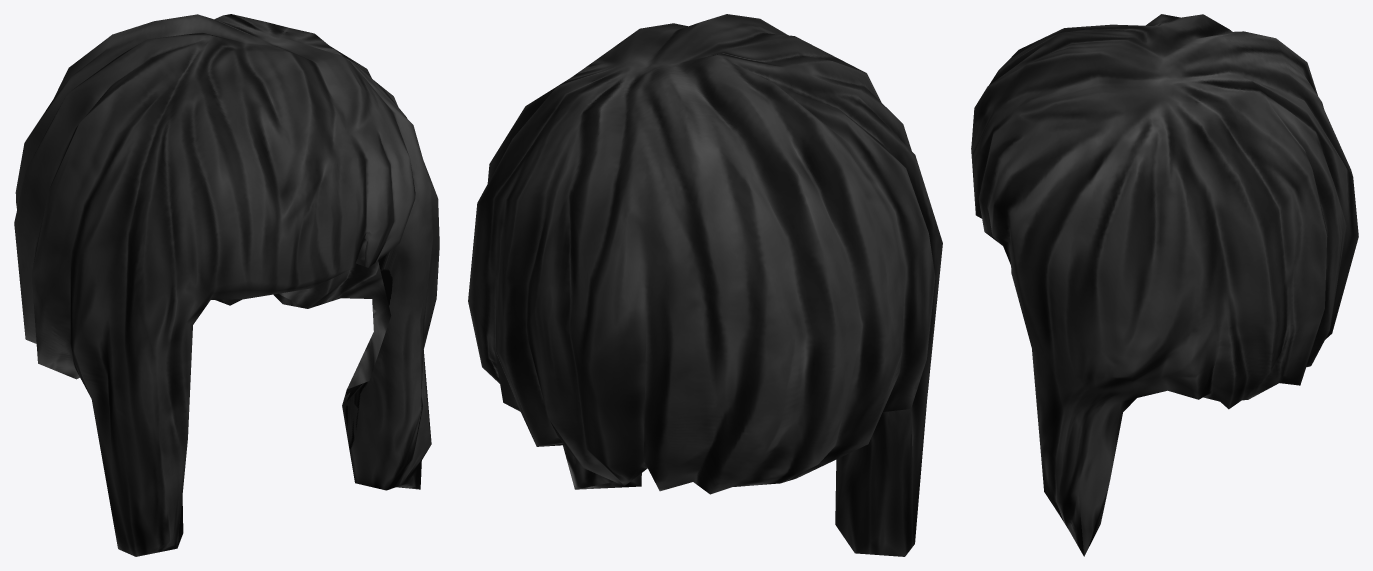
Rendered from AF_M_hair_G_21.fbx.
3 views of the same model, side by side, from view 1: azimuth 30°, elevation 25°; view 2: azimuth 150°, elevation 25°; view 3: azimuth 270°, elevation 25° (orthographic). The views are drawn at different scales.
Visible parts, largest first — view 1: AF_M_hair_G_21; view 2: AF_M_hair_G_21; view 3: AF_M_hair_G_21.
Part boxes in pixels (bbox=[...]): AF_M_hair_G_21: bbox=[14, 14, 439, 556]; AF_M_hair_G_21: bbox=[468, 14, 942, 556]; AF_M_hair_G_21: bbox=[971, 14, 1358, 556].
Size of the model in its own units: 780 by 930 by 725.
